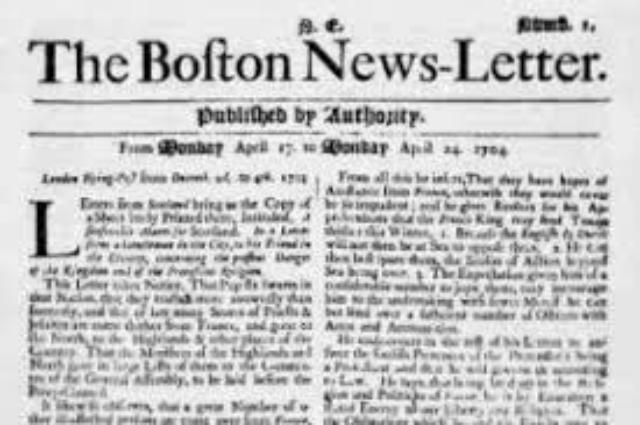cardboard paper: (8, 11, 627, 425)
